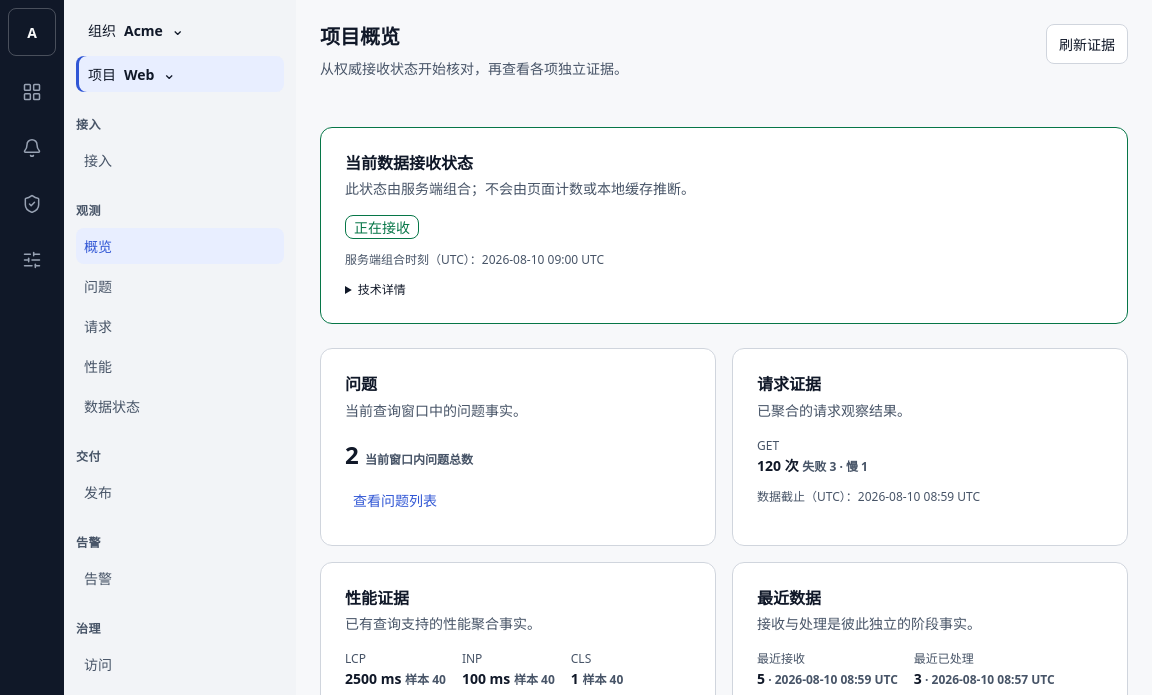
app shell › keeps the previous scope and shows a readable error when navigation fails
Click the button with aria-label "组织：Acme". click: (180, 30)
box: [76, 12, 284, 48]
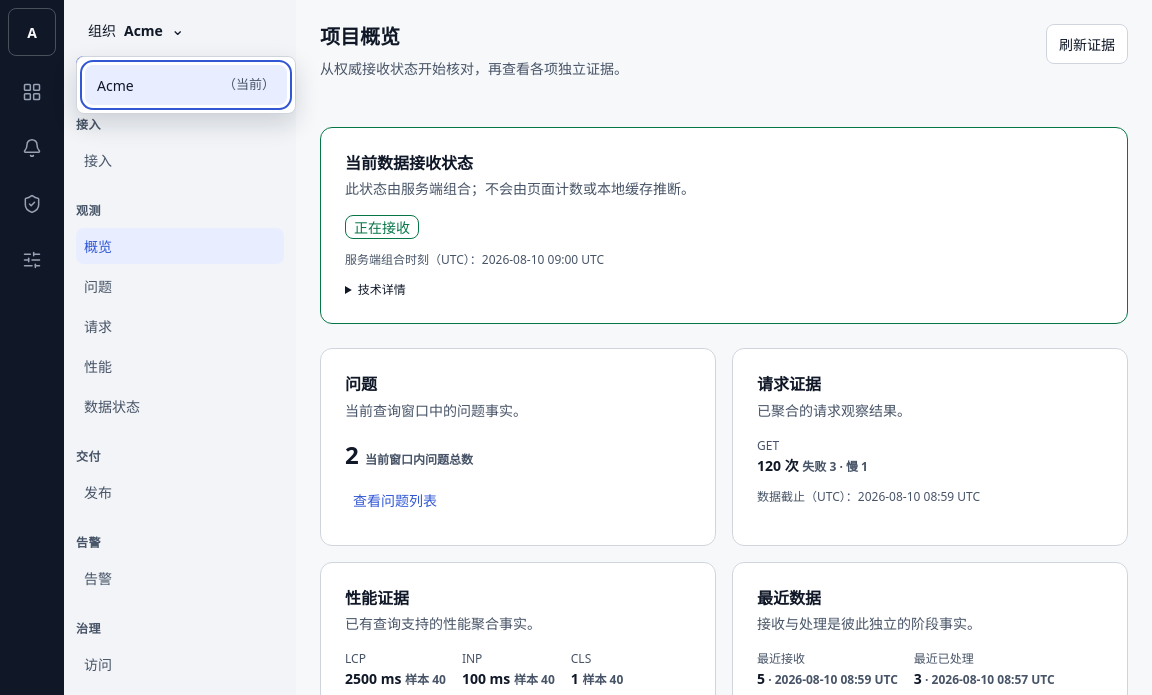
Click the menu item with aria-label "Acme（当前）". click: (186, 85)
box: [85, 65, 287, 105]
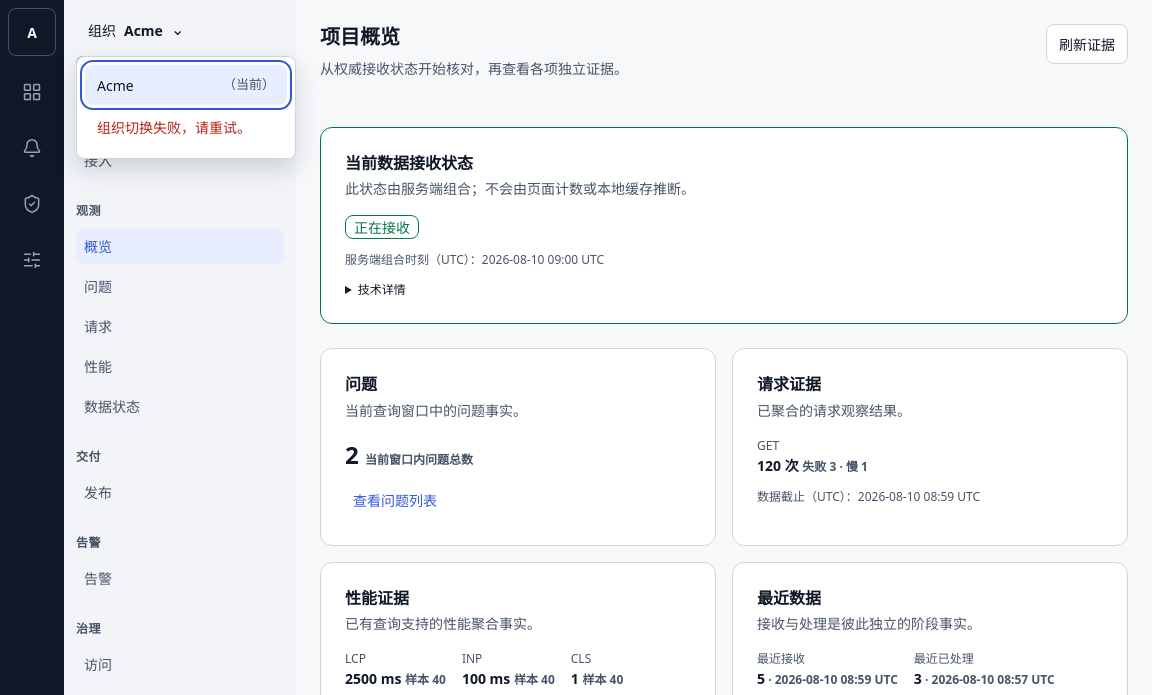
Expected: the message "组织切换失败，请重试。" is shown, [97, 118, 251, 137]
